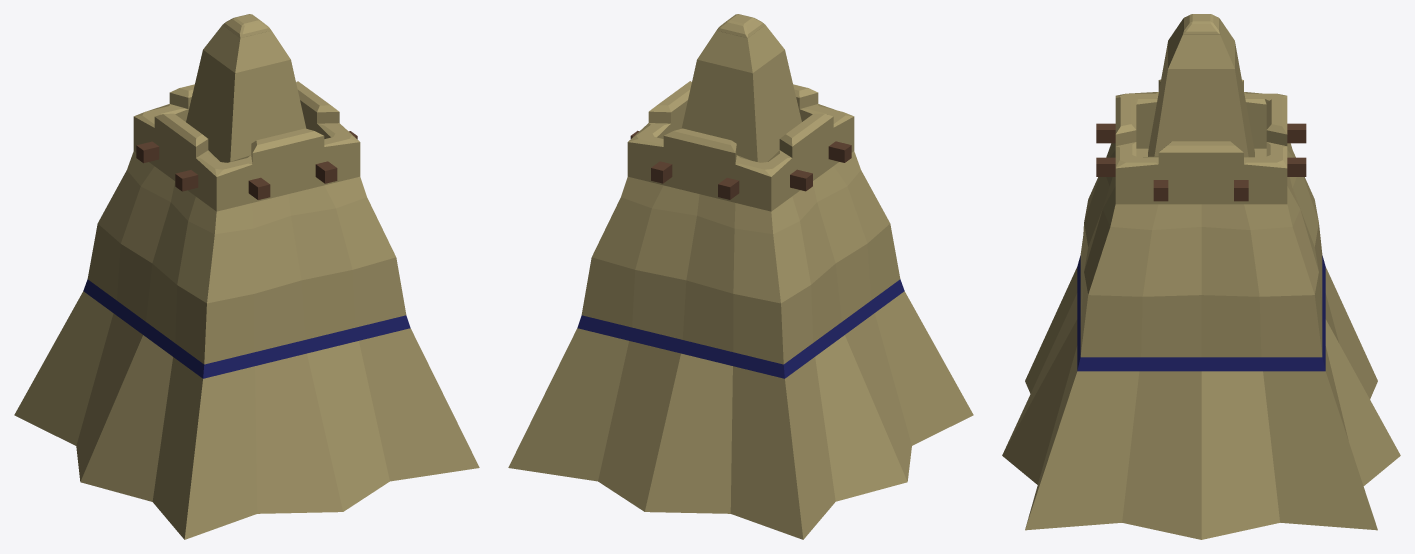
File: Desert Tower.fbx
3 views of the same model, side by side, from view 1: azimuth 30°, elevation 25°; view 2: azimuth 150°, elevation 25°; view 3: azimuth 270°, elevation 25° (orthographic). The views are drawn at different scales.
Visible parts, largest first — view 1: Cube; view 2: Cube; view 3: Cube.
Boxes of the visible parts, left/top/right/bottom form: Cube: left=14, top=14, right=479, bottom=539; Cube: left=508, top=14, right=973, bottom=539; Cube: left=1002, top=14, right=1400, bottom=539.
Bounding box in the file's own units: 3605 × 4367 × 3605.
